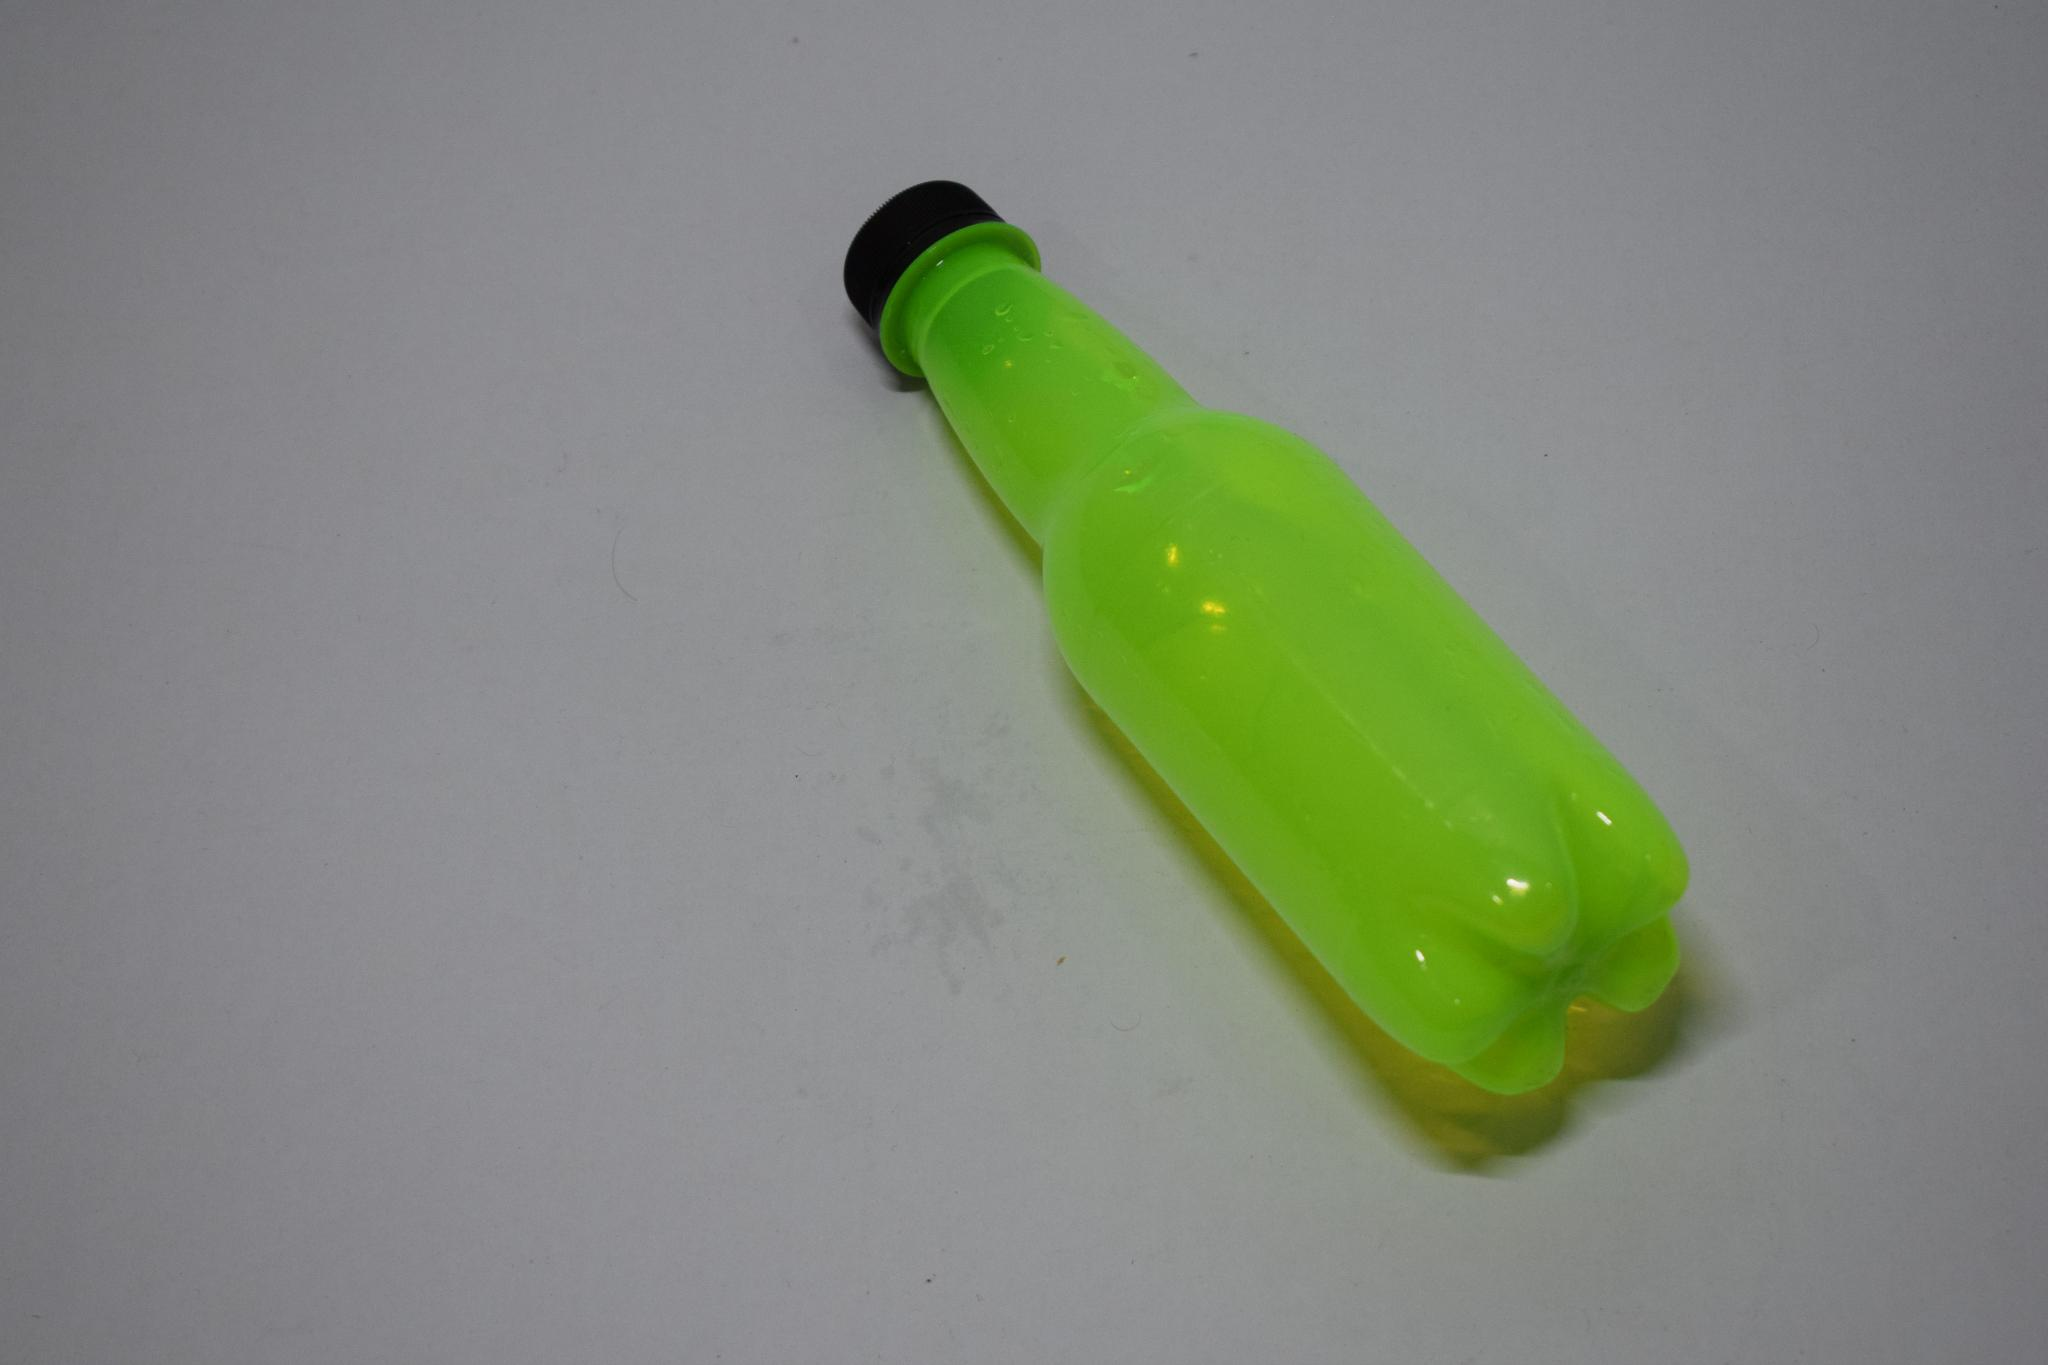bottle: (836, 168, 1696, 1109)
